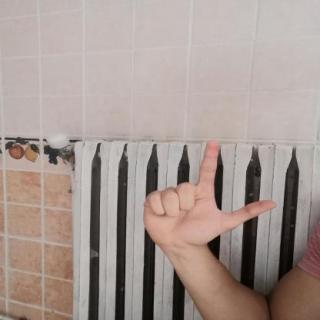LAAM: (132, 134, 285, 258)
